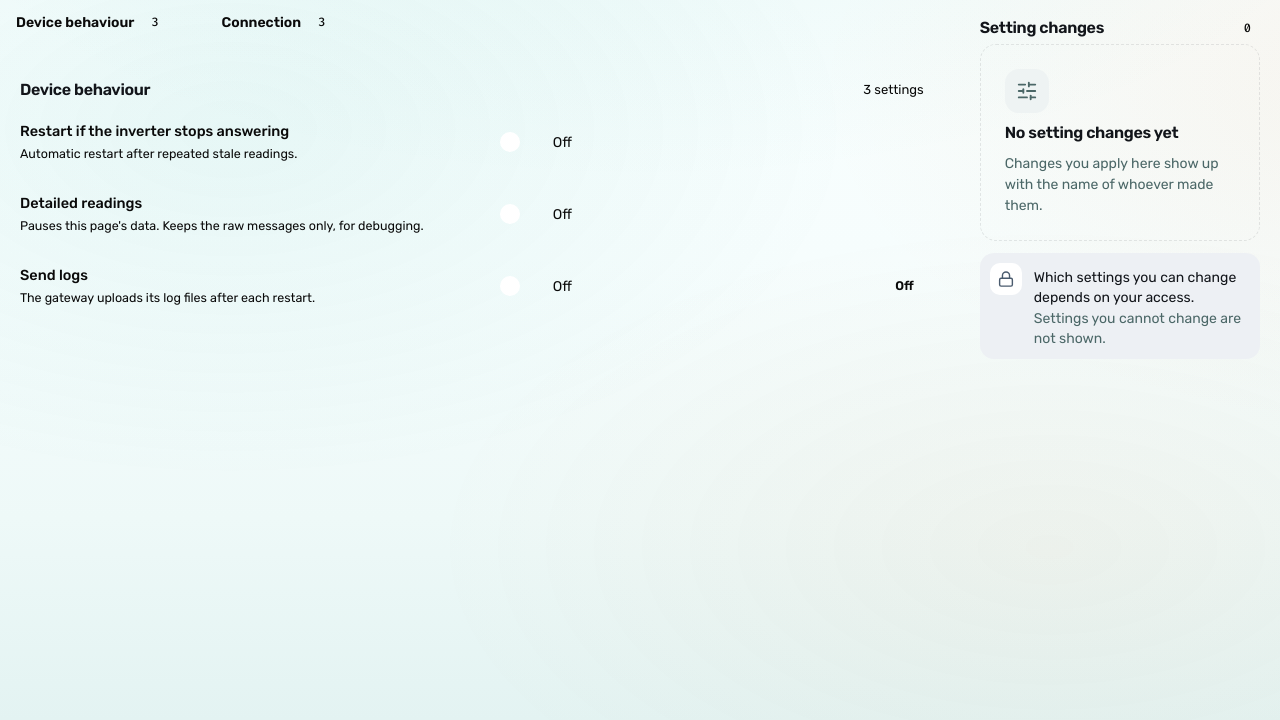
Test: A2/A3 two changes, one fails: result lines, failed stays staged
What coordinates should you click on to do the following:
click the switch named "Restart if the inverter stops answering"
I would click on:
 (520, 142)
Its box is left=496, top=120, right=756, bottom=164.
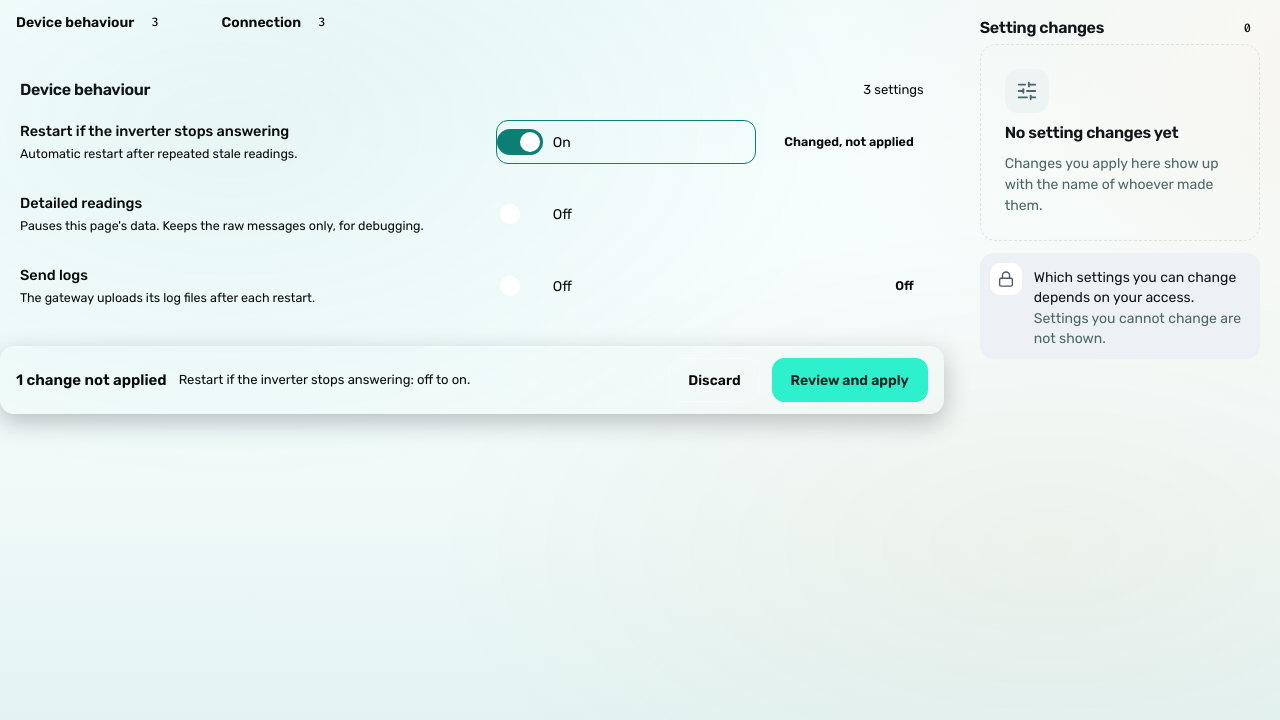
What coordinates should you click on to do the following:
click the switch named "Send logs"
I would click on:
 (520, 286)
Its box is left=496, top=264, right=756, bottom=308.
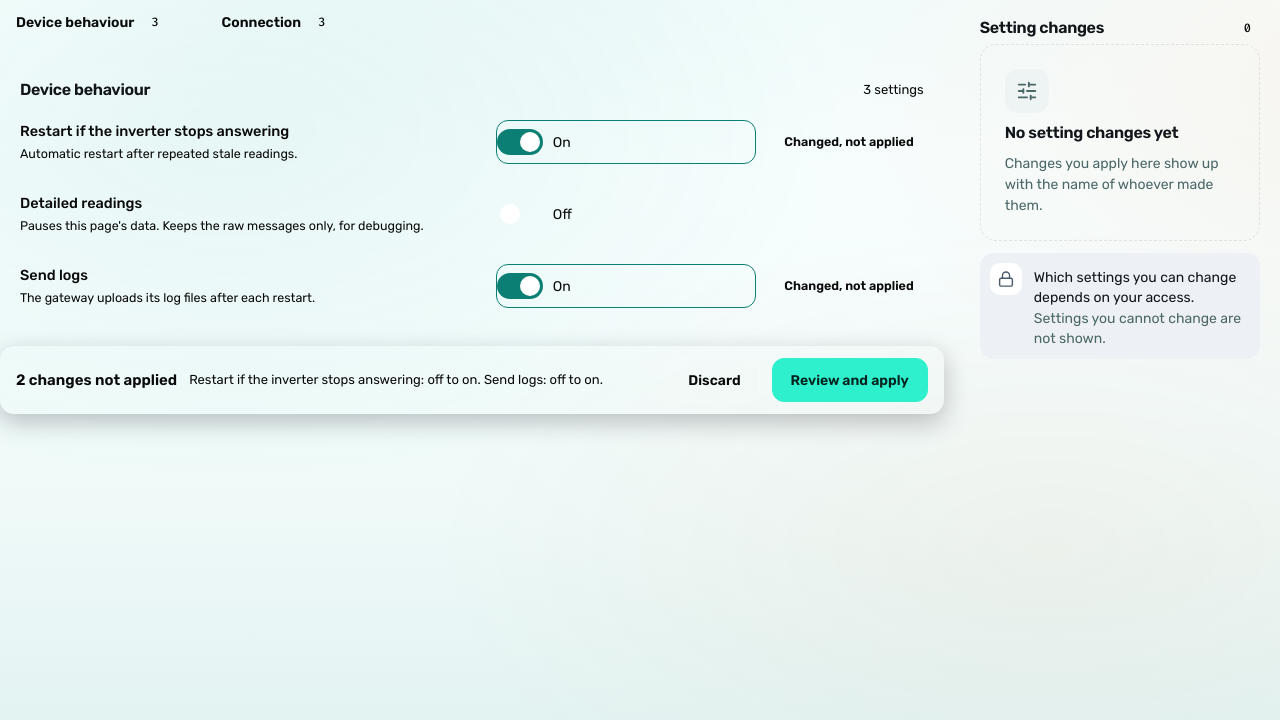
What coordinates should you click on to do the following:
click the button "Review and apply"
I would click on:
 (850, 380)
Its box is left=772, top=358, right=928, bottom=402.
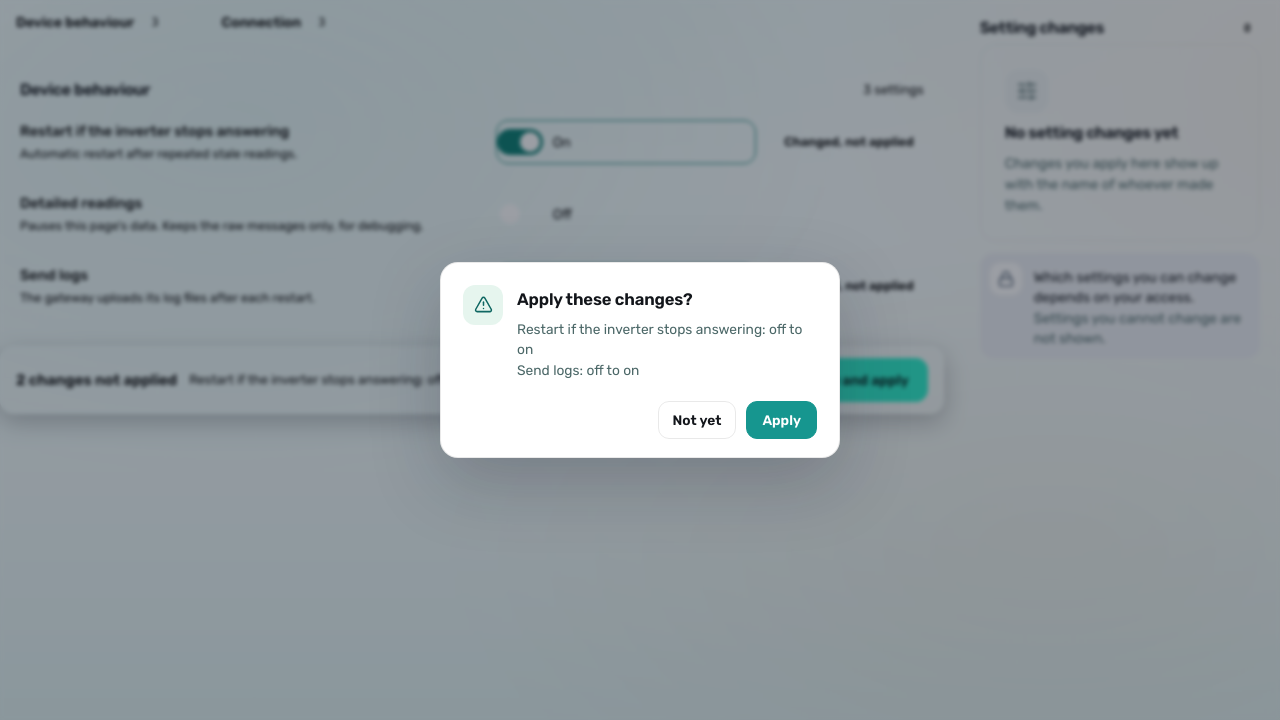
What coordinates should you click on to do the following:
click the button "Apply"
I would click on:
 (782, 420)
Its box is left=746, top=401, right=817, bottom=439.
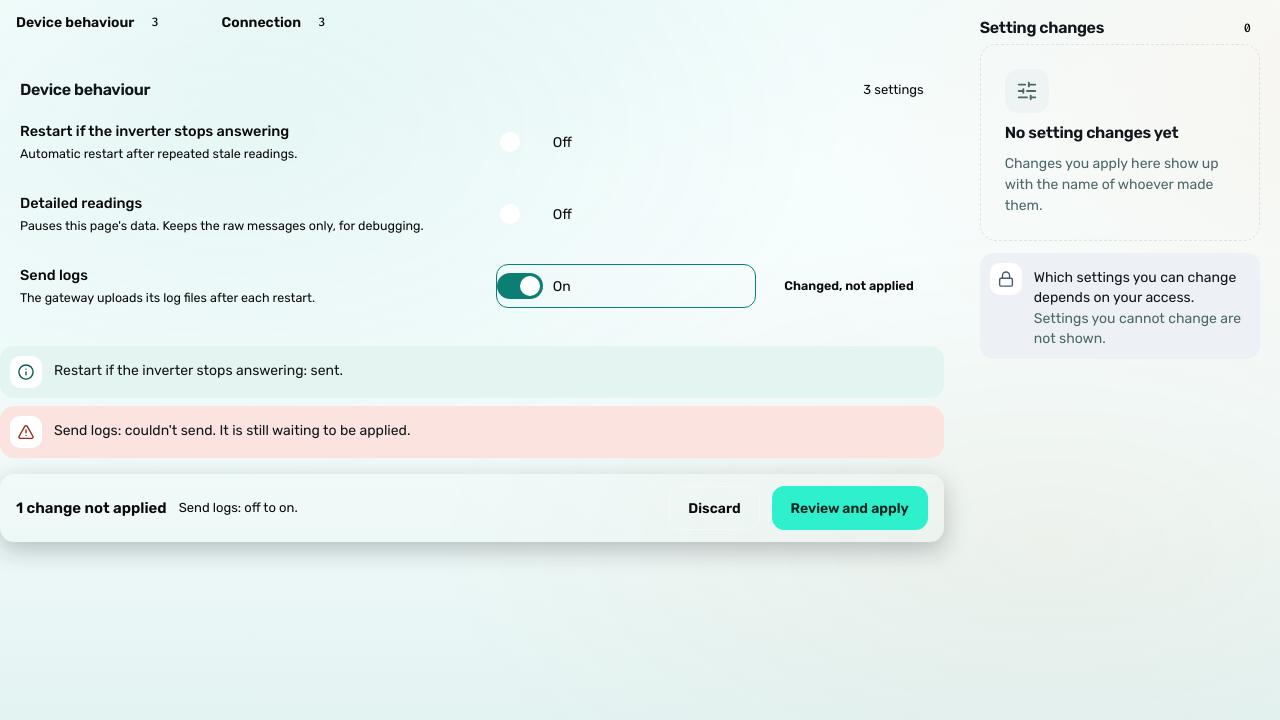
Now the text "Send logs: couldn't send. It is still waiting to be applied." is shown, box left=54, top=422, right=410, bottom=439
Now the text "1 change not applied" is shown, box left=16, top=497, right=167, bottom=519
